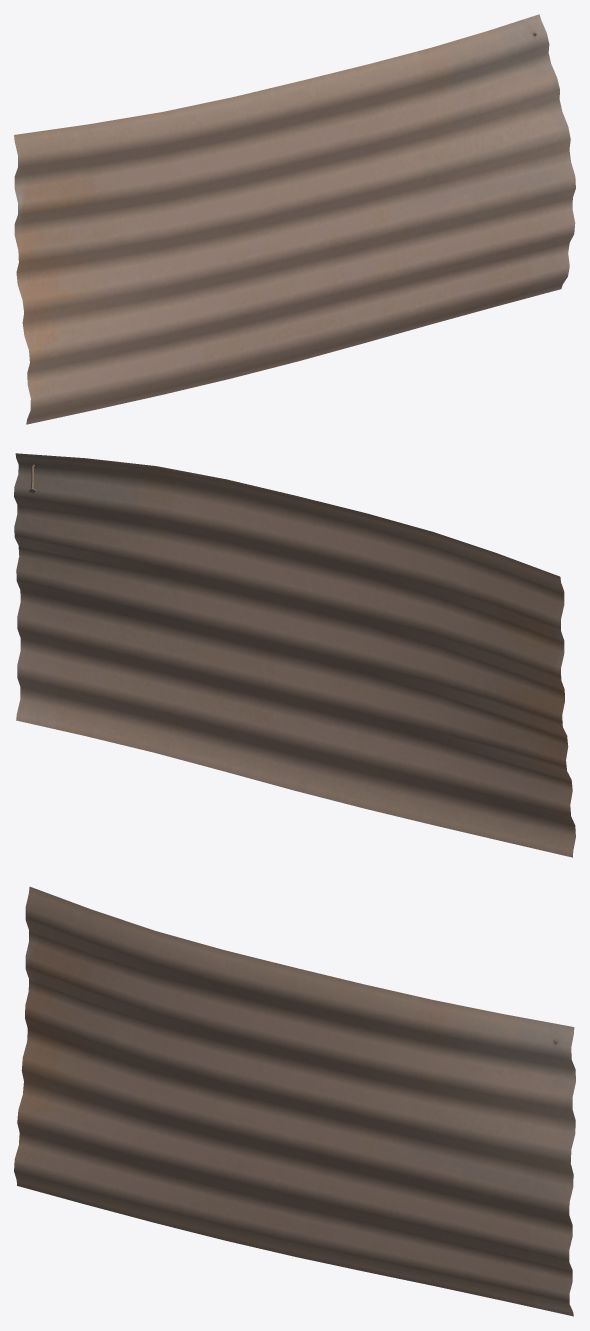
File: props_2fort_corrugated_metal001.glb
3 views of the same model, one above another, from view 1: azimuth 30°, elevation 25°; view 2: azimuth 150°, elevation 25°; view 3: azimuth 330°, elevation 25° (orthographic). The views are drawn at different scales.
Parts seen in each view (by area): view 1: models/props_2fort/corrugated_metal001; view 2: models/props_2fort/corrugated_metal001; view 3: models/props_2fort/corrugated_metal001.
Part boxes in pixels (x1,y1,x2,y2): models/props_2fort/corrugated_metal001: (14,14,575,424); models/props_2fort/corrugated_metal001: (14,453,575,857); models/props_2fort/corrugated_metal001: (14,886,575,1316).
Bounding box in the file's own units: 95.95 × 47.97 × 9.04.
Materials: 1 (1 with a texture image).
